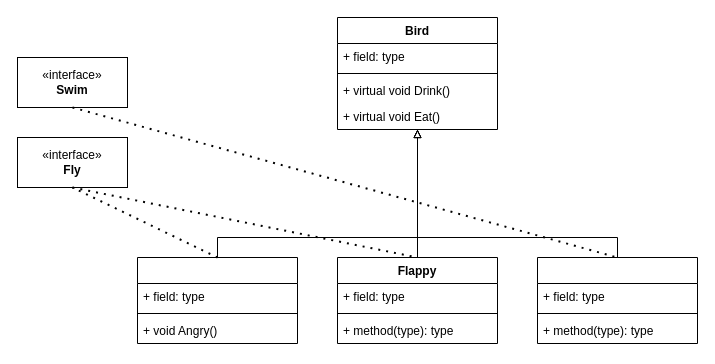
This 715x364 diagram has some shape labels left out. Each missing label, with the box of its shape:
Penguin: (536, 256, 698, 344)
Red: (136, 256, 298, 344)
